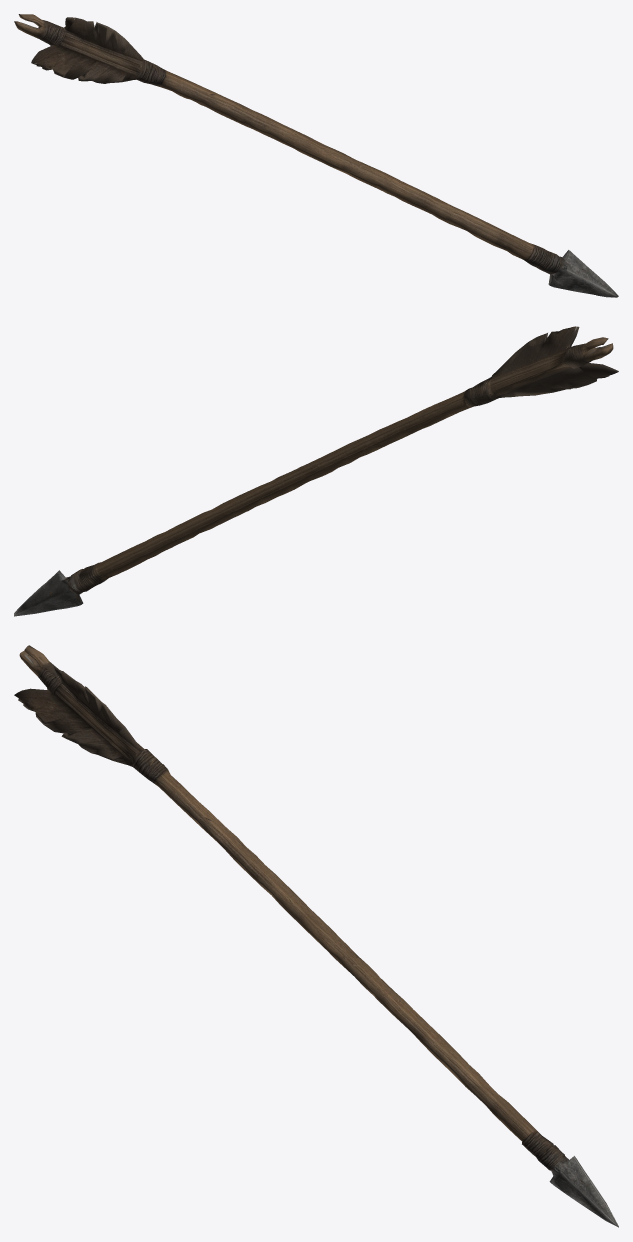
File: arrow.glb
3 renders of one model, top to bottom at view 1: azimuth 30°, elevation 25°; view 2: azimuth 150°, elevation 25°; view 3: azimuth 330°, elevation 25°, orthographic. The views are drawn at different scales.
Visible parts, largest first — view 1: mesh_node; view 2: mesh_node; view 3: mesh_node.
Boxes of the visible parts, x1,y1,x2,y2 form: mesh_node: (14, 14, 618, 297); mesh_node: (14, 326, 618, 616); mesh_node: (14, 645, 618, 1227).
Size of the model in its own units: 1.9 by 1.29 by 0.0933.
Materials: 1 (1 with a texture image).
